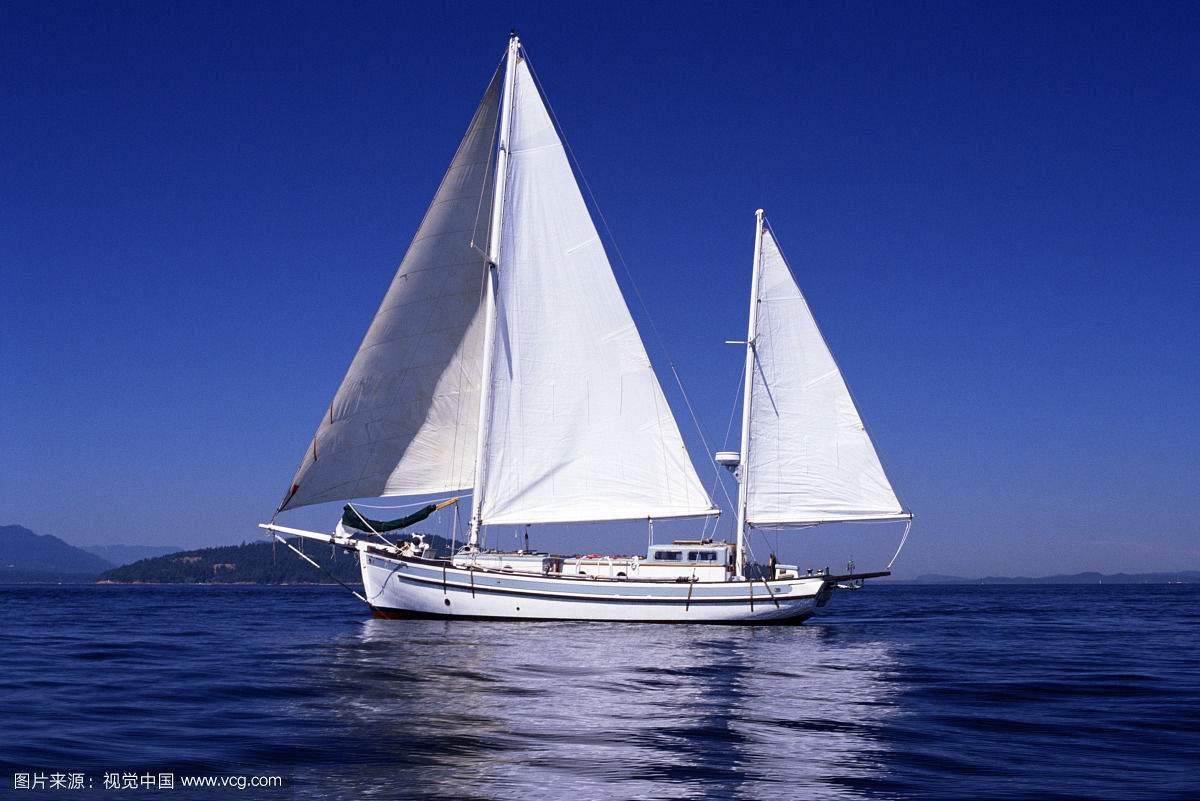fanchuan: (278, 29, 923, 624)
